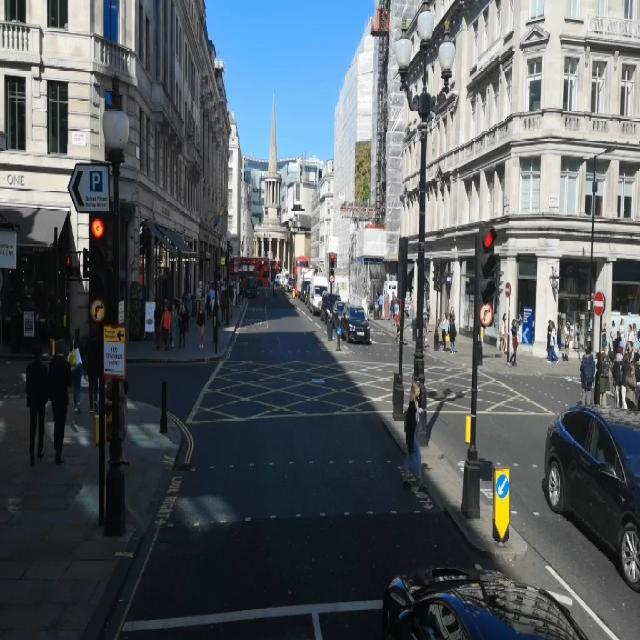pedestrian: (403, 381, 424, 489)
